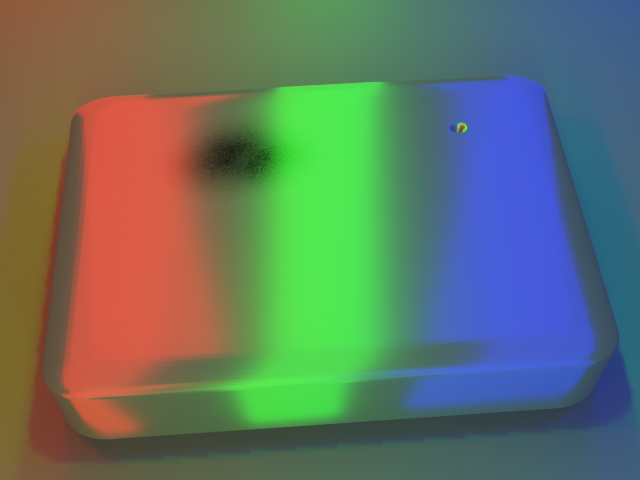dent: (450, 99, 492, 144)
stain: (105, 84, 340, 209)
